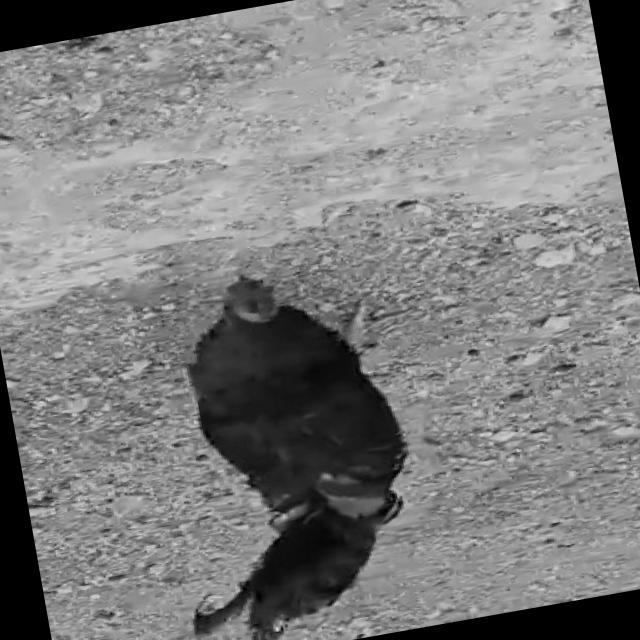pecking: (131, 244, 456, 640)
